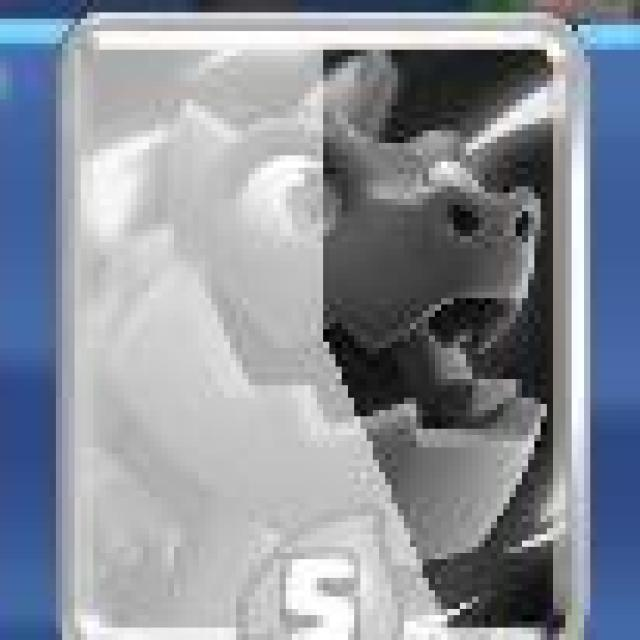Electro_Dragon: (55, 10, 590, 640)
